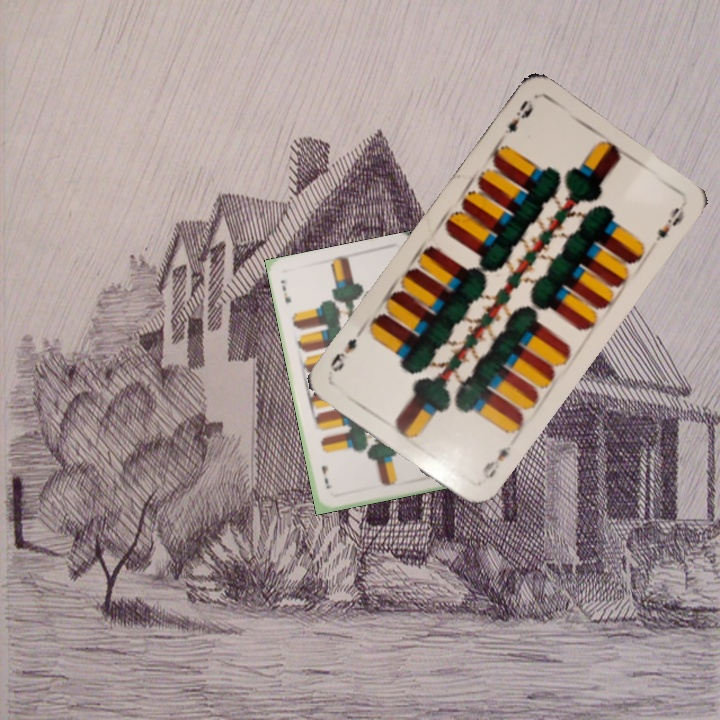E7: (276, 276, 294, 306)
E9: (500, 95, 537, 137), (477, 441, 514, 482)
